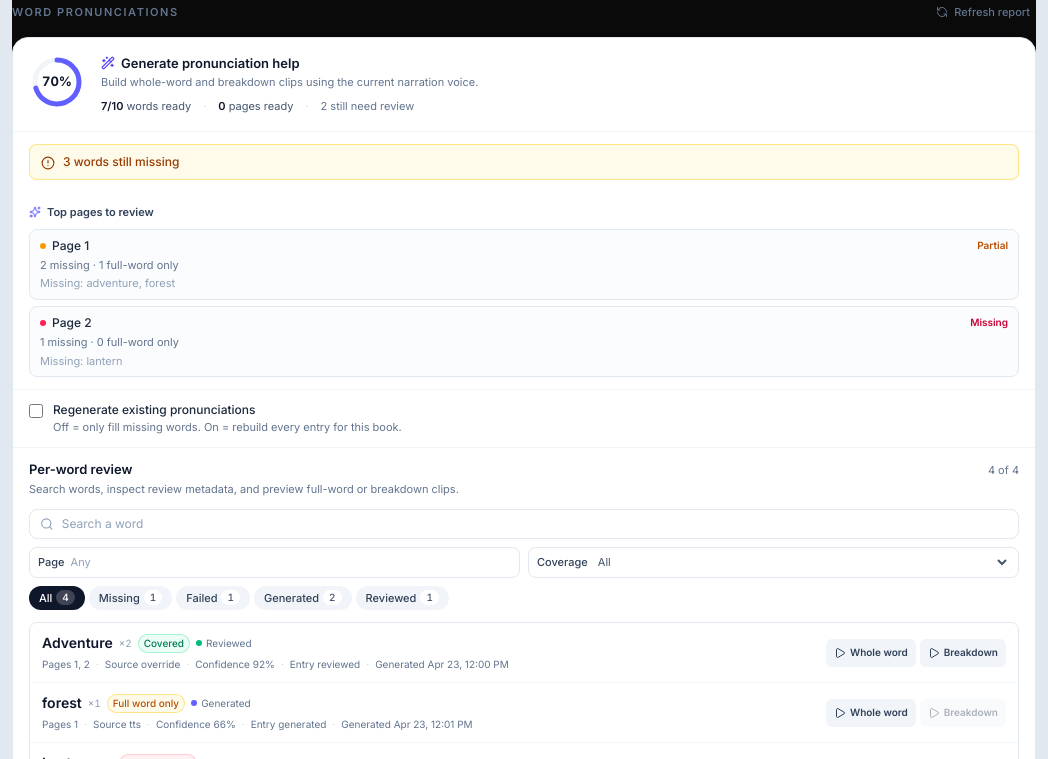
Test: PronunciationPanel › supports full regeneration mode and keeps the action label in sync
Click the checkbox.
click(36, 411)  # box left=29, top=404, right=43, bottom=418
(page scrolled)
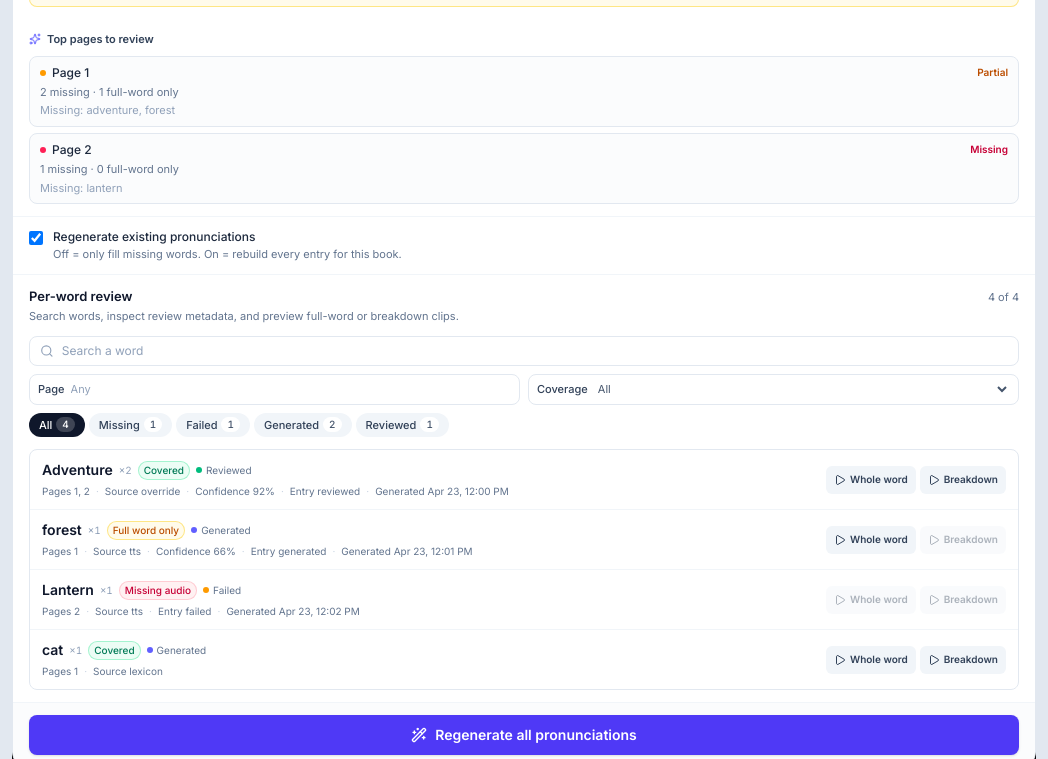
Result: the button "Regenerate all pronunciations" is shown at left=29, top=715, right=1019, bottom=755
